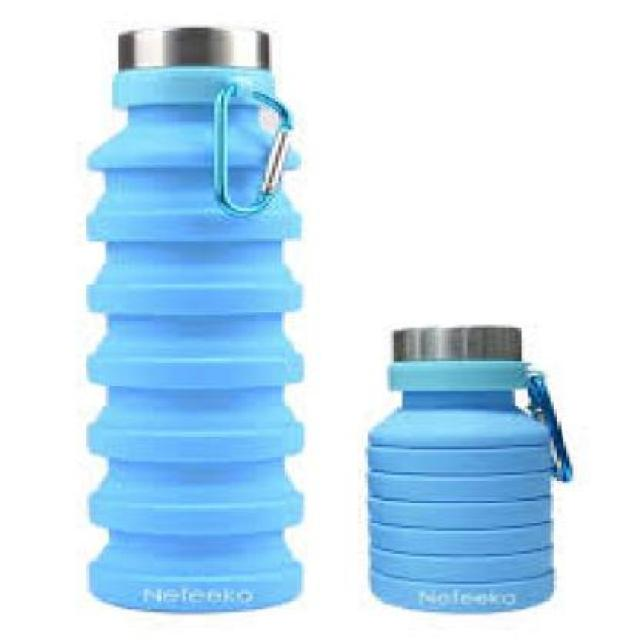Drinking: (67, 18, 348, 638)
